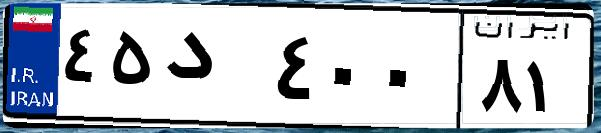0: (385, 28, 445, 110), (330, 28, 385, 110)
1: (525, 38, 570, 115)
4: (270, 28, 330, 110), (57, 26, 110, 100)
5: (110, 28, 158, 98)
8: (475, 38, 525, 113)
د: (158, 20, 270, 120)
